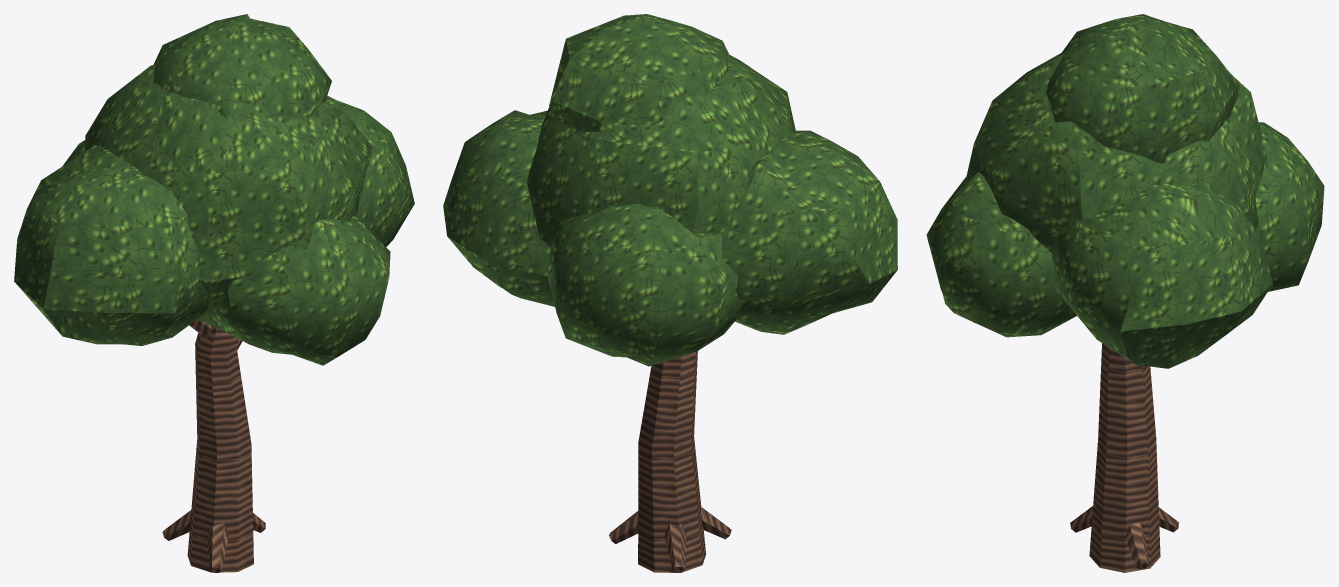
Rendered from tree_oak.gltf.
3 views of the same model, side by side, from view 1: azimuth 30°, elevation 25°; view 2: azimuth 150°, elevation 25°; view 3: azimuth 270°, elevation 25° (orthographic). The views are drawn at different scales.
Visible parts, largest first — view 1: tree_oak_mesh; view 2: tree_oak_mesh; view 3: tree_oak_mesh.
Part boxes in pixels (x1,y1,x2,y2): tree_oak_mesh: (14, 14, 414, 572); tree_oak_mesh: (443, 14, 897, 572); tree_oak_mesh: (926, 14, 1324, 572).
Size of what is drawn, in the model's own units: 4.23 by 5.42 by 3.58.
2 materials, 2 textured.
